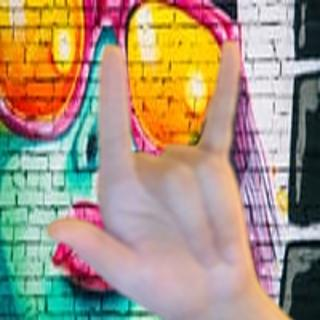ILY: (40, 36, 266, 317)
